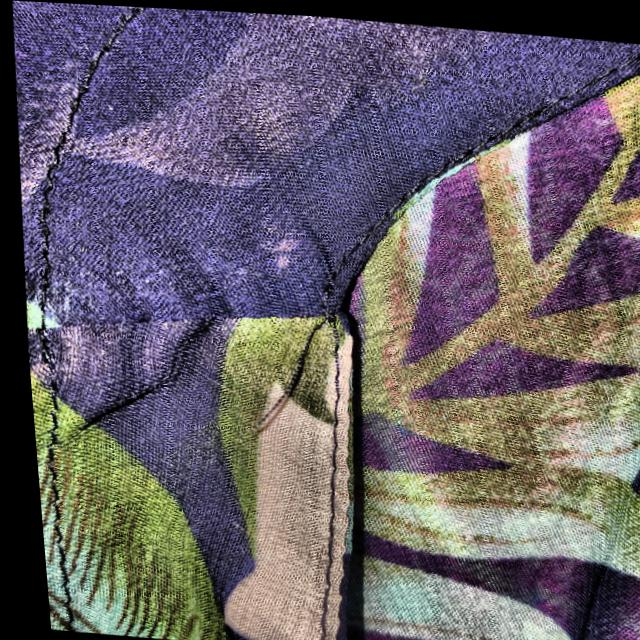Stitch: (223, 250, 360, 467)
